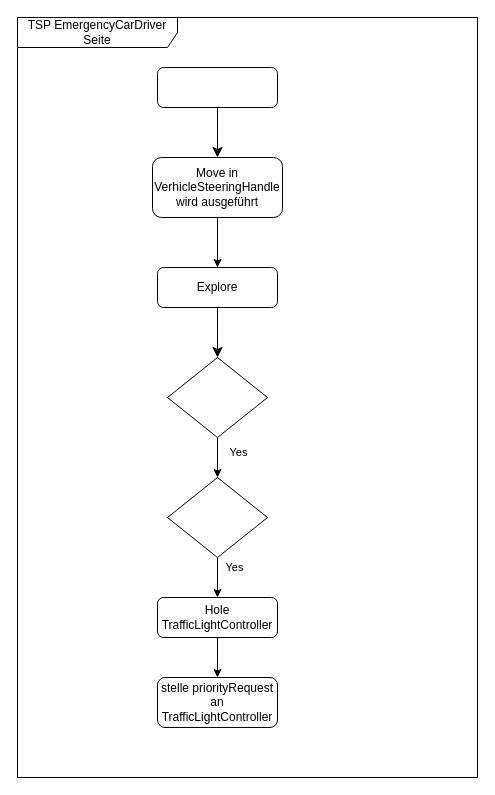
Some shapes in this 495 by 795 pixel diagram are drawn without their labels. The shapes that lost their labels are listed below. From the top down, each one's box as (x1, y1, x2, y2) in pixels, then its label:
(156, 66, 278, 108): Tick wird aufgerufen
(166, 356, 268, 438): Rote Ampel voraus?
(166, 476, 268, 558): Im Einsatz?
